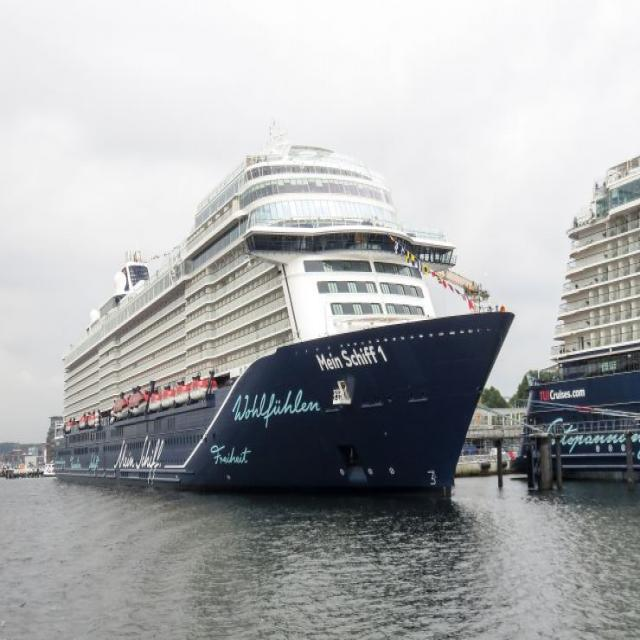cruises: (44, 132, 521, 536)
